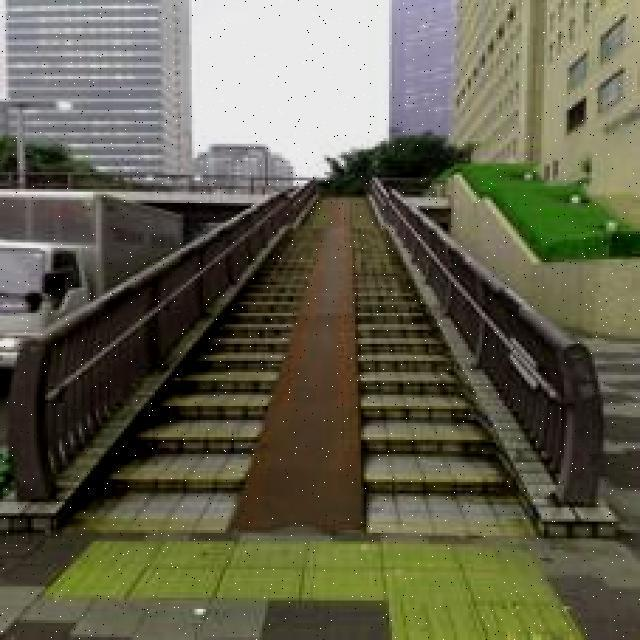Stairs: (15, 152, 627, 545)
